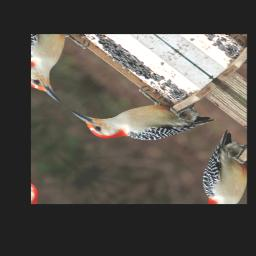Woodpecker: (67, 58, 218, 175)
